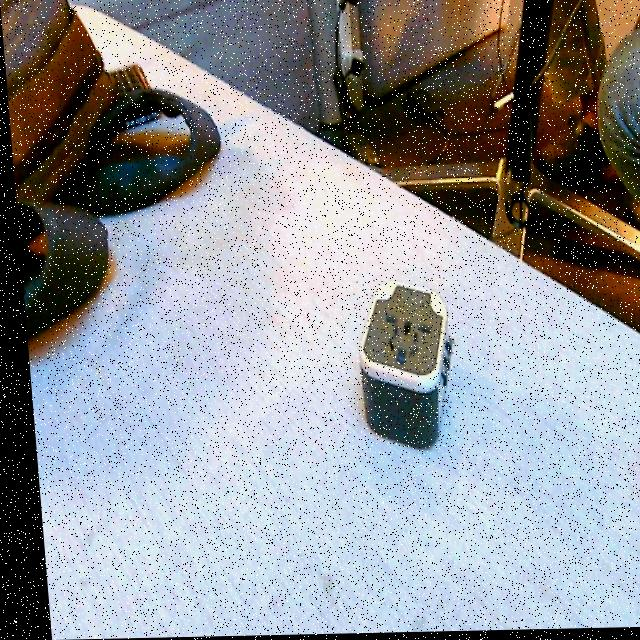adapter: (348, 279, 455, 452)
